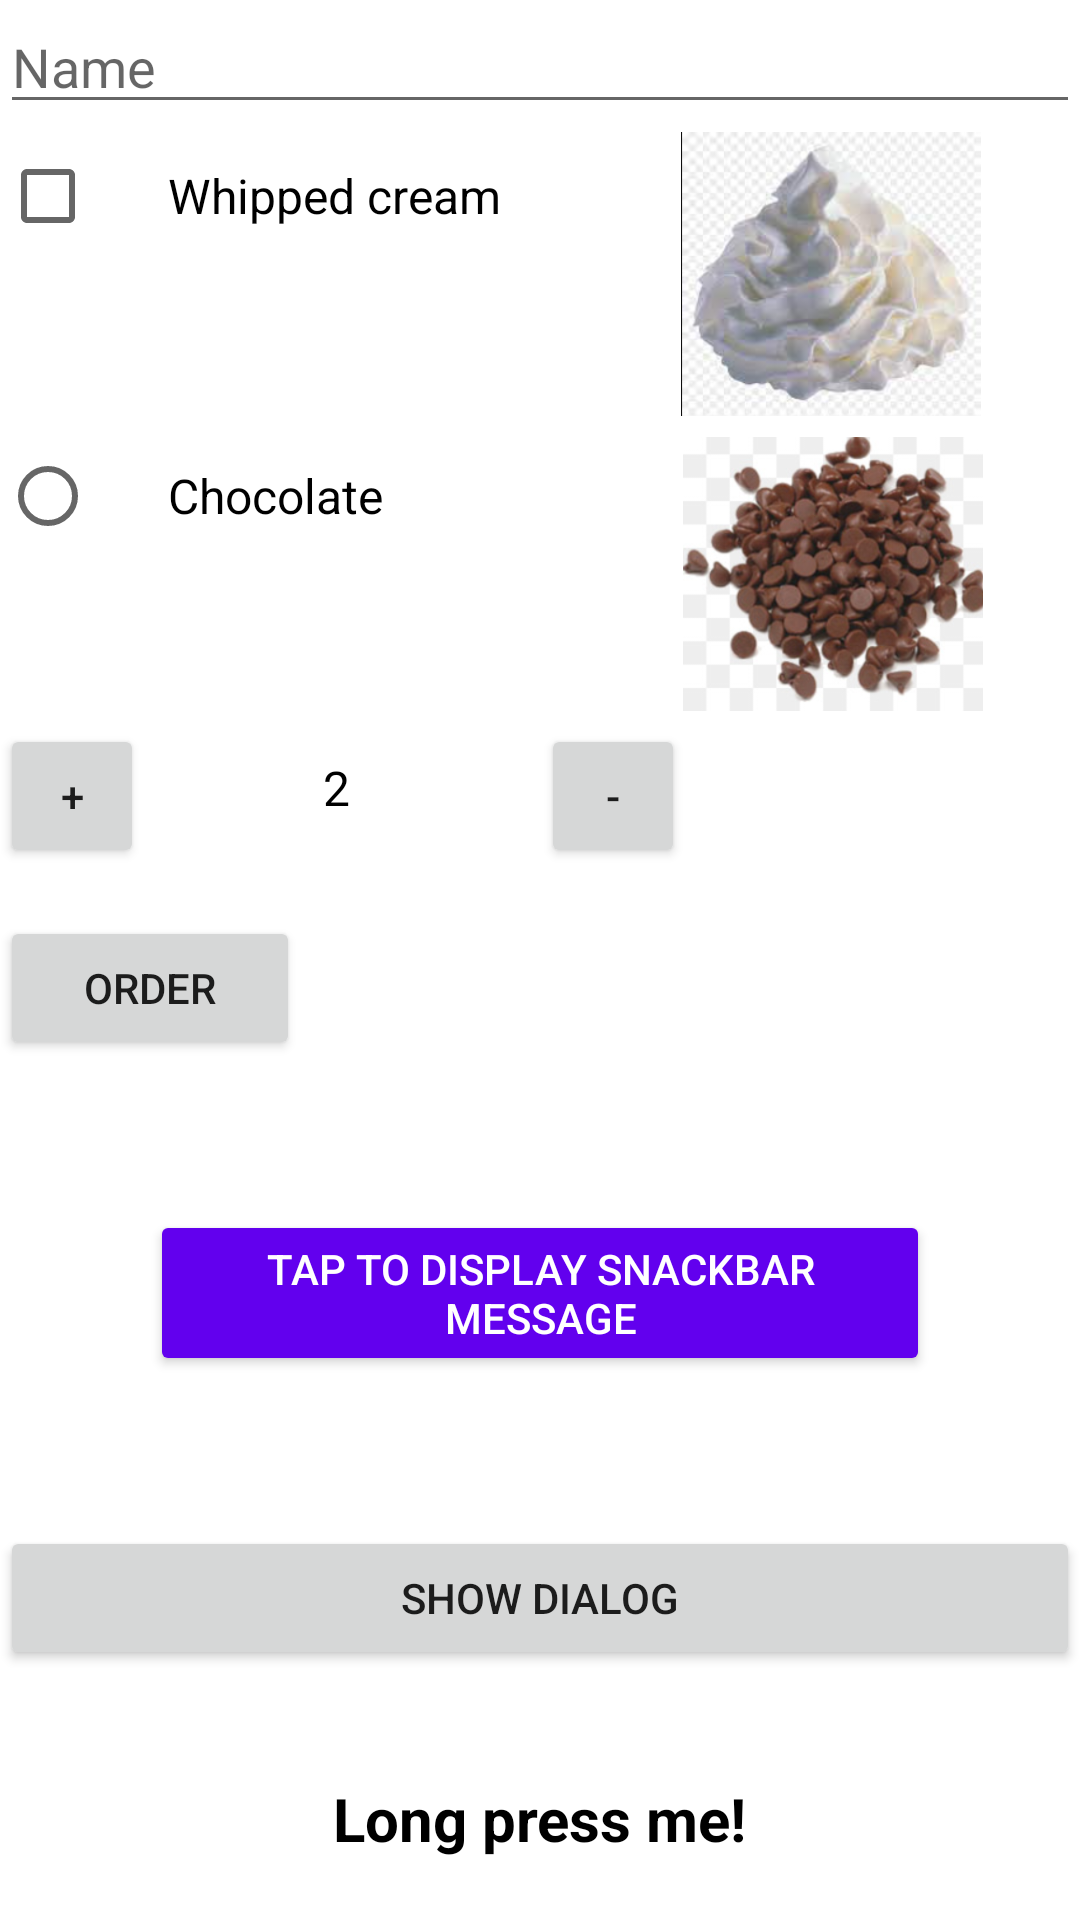

Named icons in this screenshot (1080 x 1920) and their bounding boxes, (x1, y1, x2, y2):
choclatetopping: (683, 437, 983, 702)
whippingcream: (681, 132, 973, 416)
